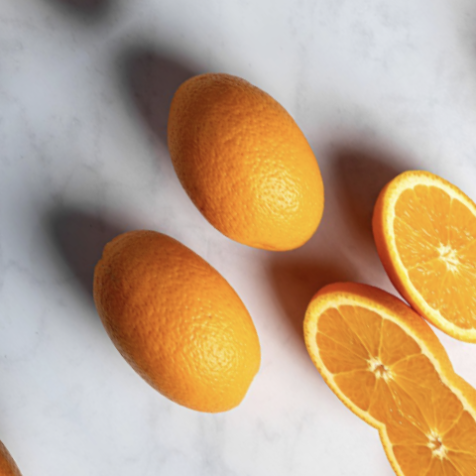orange: (55, 187, 303, 450), (126, 39, 370, 293)
